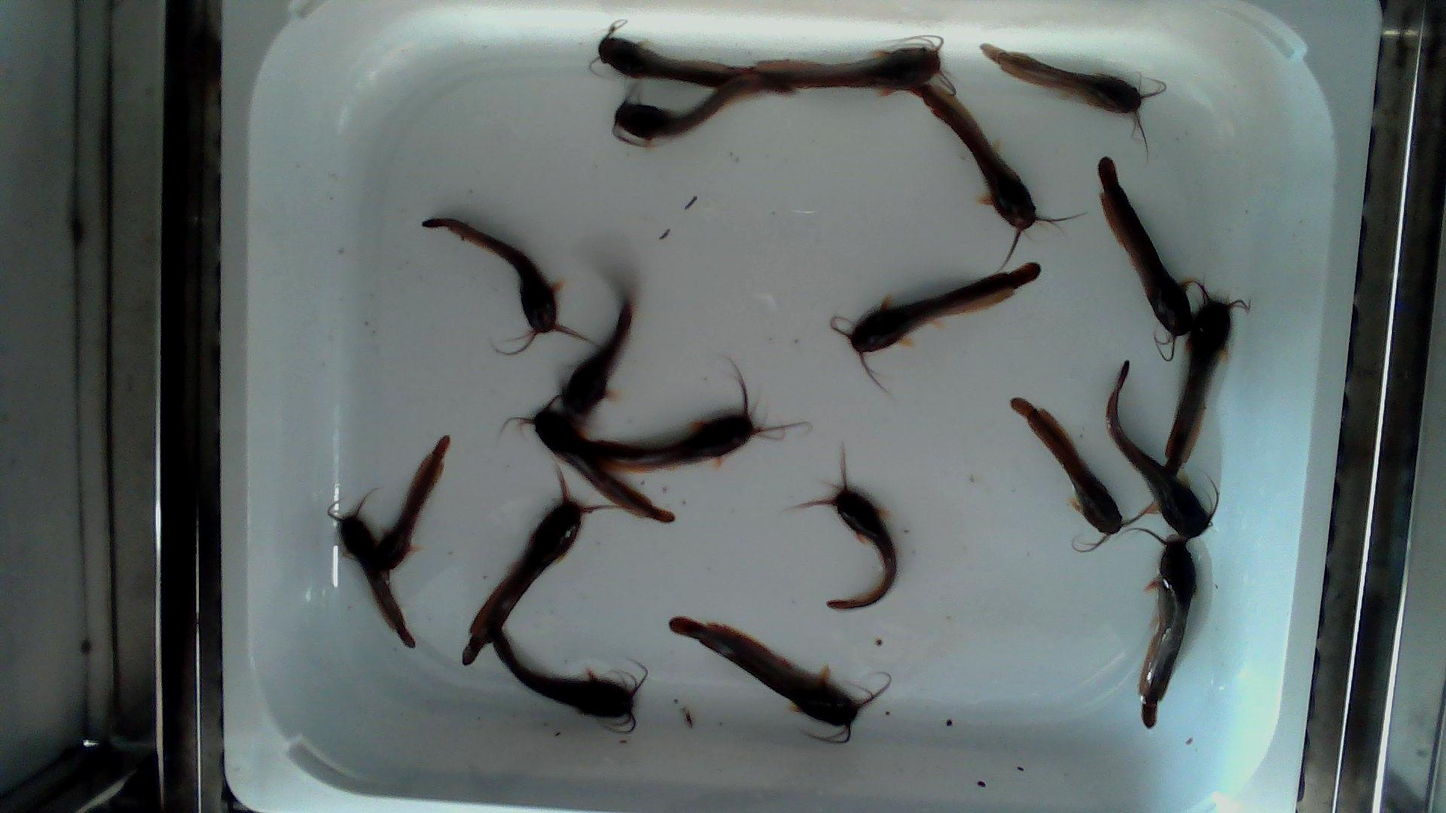lele: (458, 456, 623, 666), (909, 84, 1084, 266), (670, 617, 889, 747), (584, 355, 813, 474), (832, 263, 1040, 379), (500, 391, 675, 526), (1105, 360, 1220, 544), (423, 218, 586, 338), (1160, 277, 1251, 475), (1011, 398, 1124, 554), (1098, 157, 1191, 336), (492, 633, 650, 737), (981, 44, 1158, 129), (802, 455, 897, 609), (611, 74, 794, 150), (748, 33, 956, 98), (1130, 526, 1195, 726), (335, 497, 418, 651), (587, 22, 750, 90), (374, 435, 450, 570), (557, 299, 632, 424)
